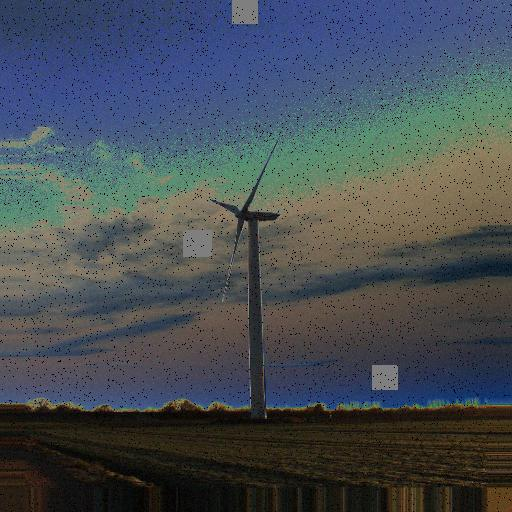wind turbine: (205, 133, 283, 414)
